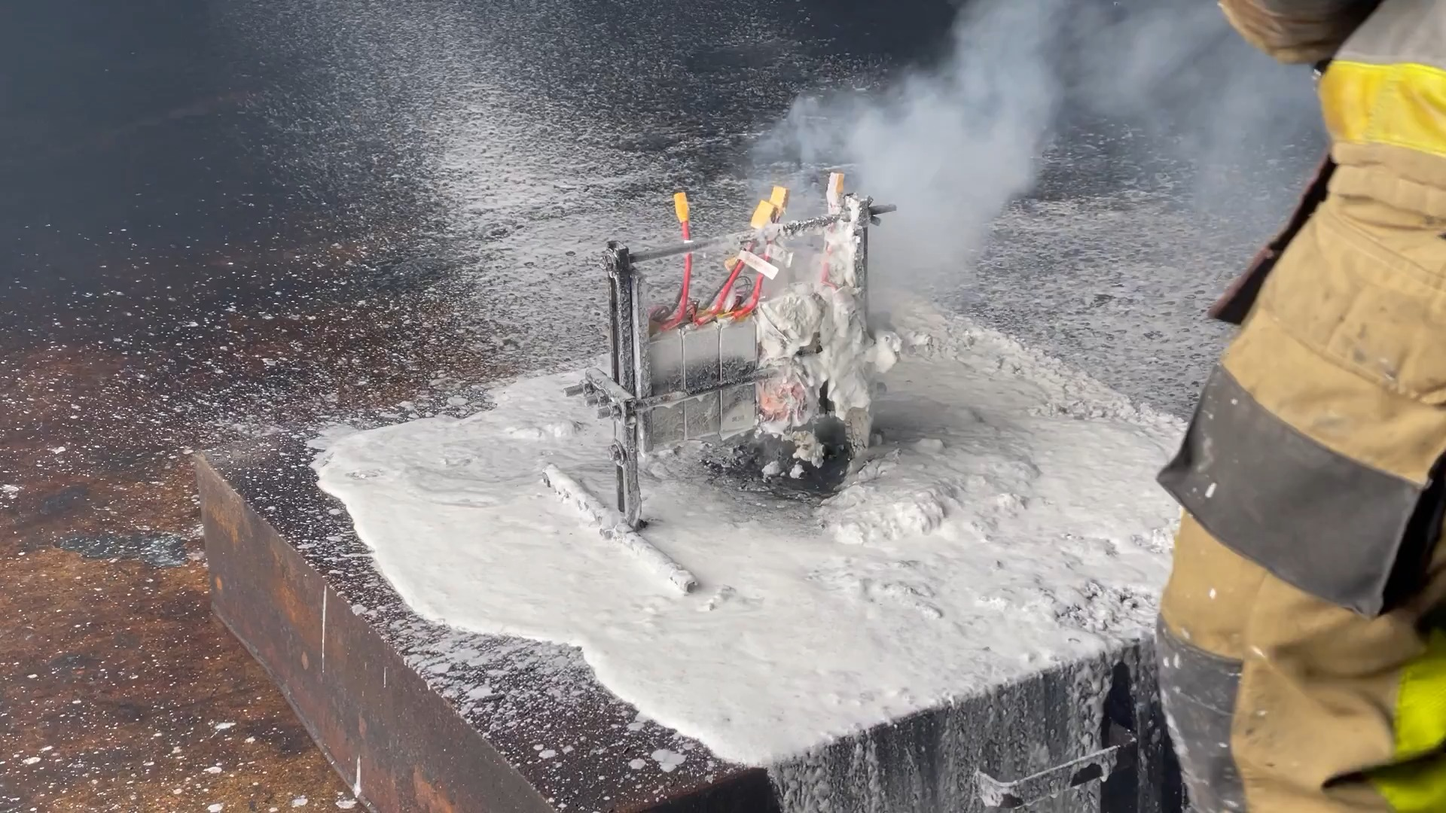smoke: (747, 0, 1322, 333)
